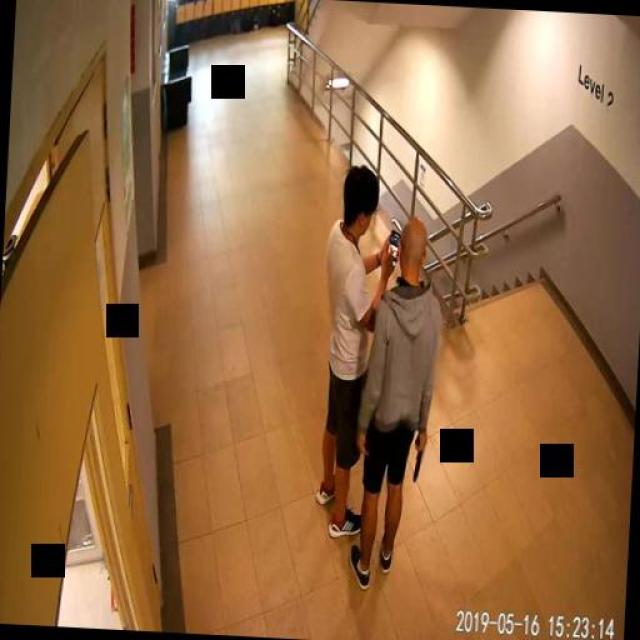gun: (412, 432, 427, 482)
